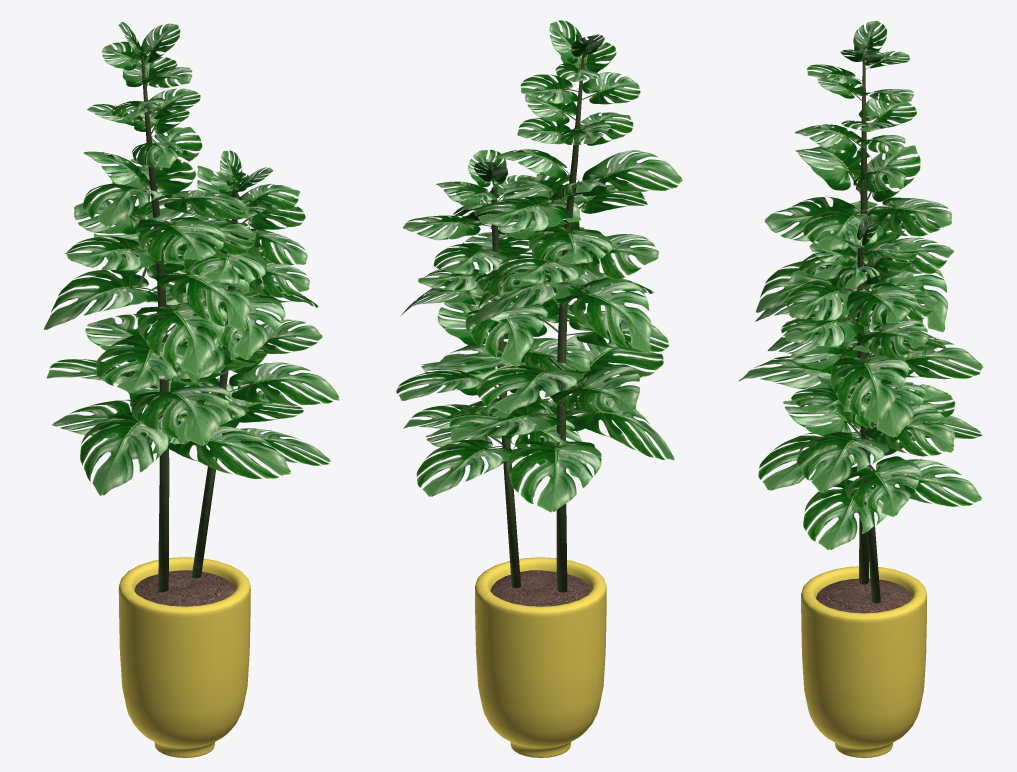
File: flowerTall.glb
3 renders of one model, left to right at view 1: azimuth 30°, elevation 25°; view 2: azimuth 150°, elevation 25°; view 3: azimuth 270°, elevation 25°, orthographic. The views are drawn at different scales.
Visible parts, largest first — view 1: Cylinder.002, Plane.017, Plane.013, Plane.004, Plane.021, Plane.019, Plane.046, Plane.030, Plane.029, Plane.022, Cylinder, Plane.064 (+35 smaller); view 2: Cylinder.002, Plane.028, Plane.019, Plane.062, Plane.006, Plane.002, Plane.009, Cylinder, Plane.053, Plane.017, Plane.018, Plane.031 (+39 smaller); view 3: Cylinder.002, Plane.035, Plane.046, Plane.055, Plane.052, Plane.040, Plane.062, Plane.023, Plane.057, Plane.027, Plane.006, Plane.061 (+36 smaller).
Boxes of the visible parts, box(x1,y1,x2,y2) form: Cylinder.002: box(118, 557, 250, 757); Plane.017: box(80, 412, 181, 495); Plane.013: box(136, 301, 227, 375); Plane.004: box(130, 386, 230, 445); Plane.021: box(168, 425, 290, 479); Plane.019: box(44, 269, 159, 329); Plane.046: box(229, 362, 339, 405); Plane.030: box(154, 260, 249, 330); Plane.029: box(96, 335, 187, 392); Plane.022: box(136, 217, 225, 261); Cylinder: box(141, 55, 169, 592); Plane.064: box(204, 295, 285, 359); Cylinder.002: box(475, 557, 606, 757); Plane.028: box(507, 437, 601, 512); Plane.019: box(555, 279, 651, 353); Plane.062: box(416, 439, 512, 496); Plane.006: box(477, 365, 584, 412); Plane.002: box(574, 150, 682, 196); Plane.009: box(551, 365, 639, 413); Cylinder: box(556, 56, 584, 592); Plane.053: box(465, 304, 547, 366); Plane.017: box(566, 396, 674, 459); Plane.018: box(449, 401, 562, 440); Plane.031: box(529, 225, 612, 264); Cylinder.002: box(801, 566, 926, 757); Plane.035: box(830, 353, 909, 423); Plane.046: box(797, 432, 888, 492); Plane.055: box(803, 480, 886, 549); Plane.052: box(844, 456, 921, 516); Plane.040: box(864, 403, 954, 456); Plane.062: box(873, 459, 981, 506); Plane.023: box(867, 197, 952, 236); Plane.057: box(846, 283, 916, 326); Plane.027: box(803, 205, 884, 251); Plane.006: box(879, 337, 983, 379); Plane.061: box(786, 278, 862, 320).
Size of the model in its own units: 200 by 484 by 177.
66 materials, 65 textured.
